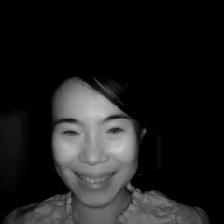happy: (38, 59, 162, 207)
